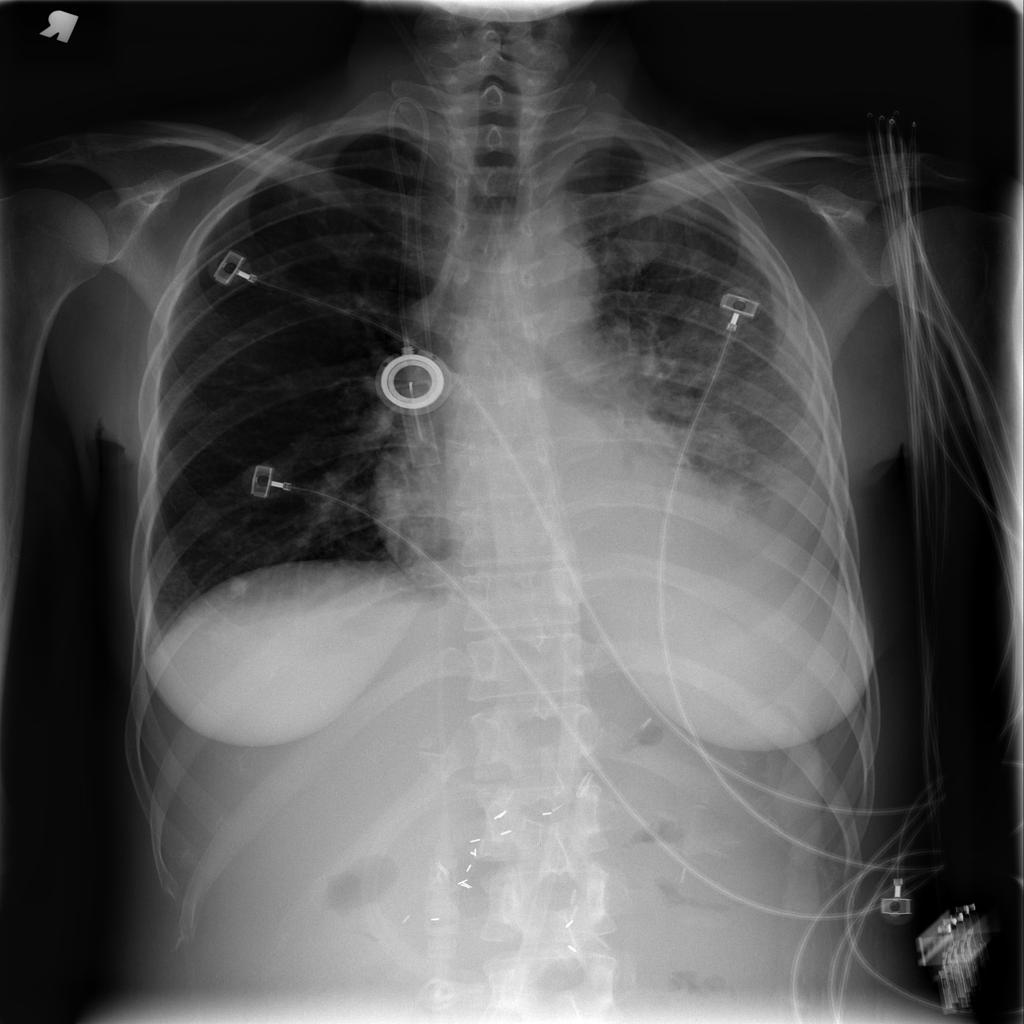nodule: (680, 404, 757, 477), (211, 564, 266, 611)
